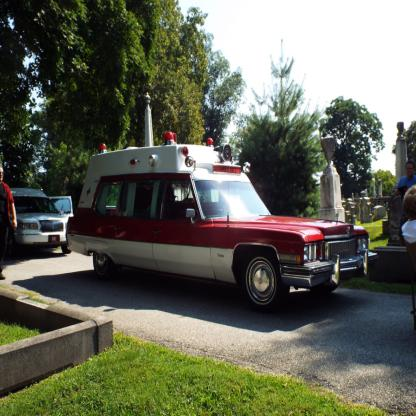Ambulance: (66, 129, 383, 314)
Car: (10, 188, 74, 253)
